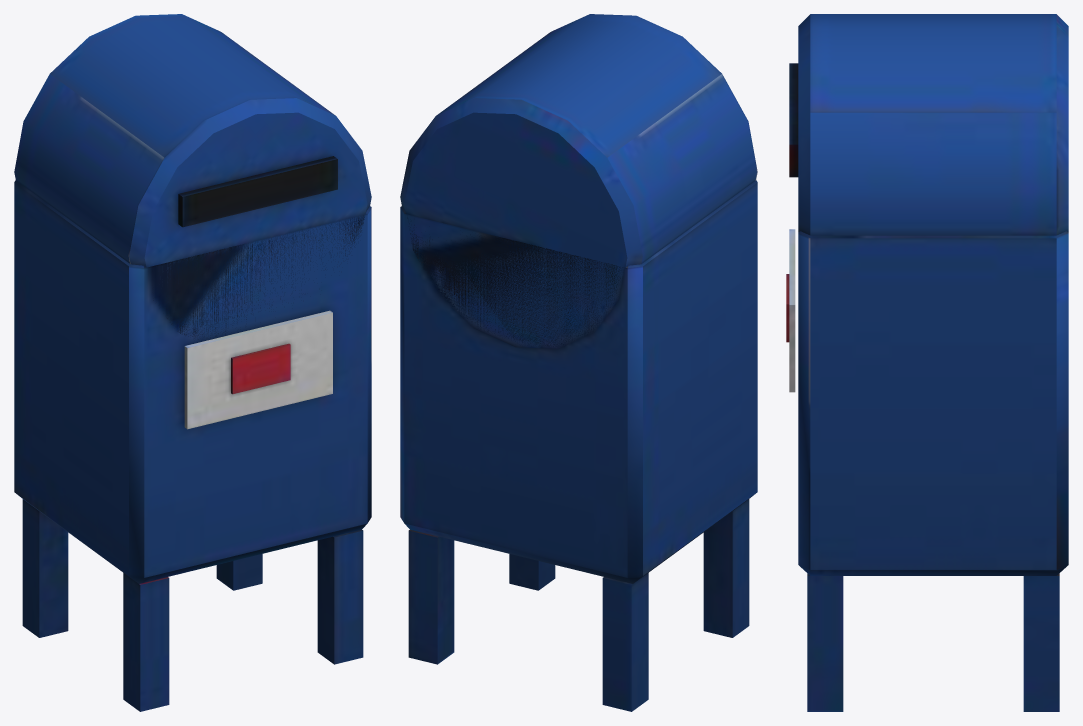
File: buzon.glb
3 renders of one model, left to right at view 1: azimuth 30°, elevation 25°; view 2: azimuth 150°, elevation 25°; view 3: azimuth 270°, elevation 25°, orthographic. The views are drawn at different scales.
Parts seen in each view (by area): view 1: buzon; view 2: buzon; view 3: buzon.
Part boxes in pixels (x1,y1,x2,y2): buzon: (14, 14, 371, 711); buzon: (400, 14, 757, 711); buzon: (786, 14, 1068, 711).
Bounding box in the file's own units: 0.5 × 1.15 × 0.47.
Materials: 1 (1 with a texture image).
